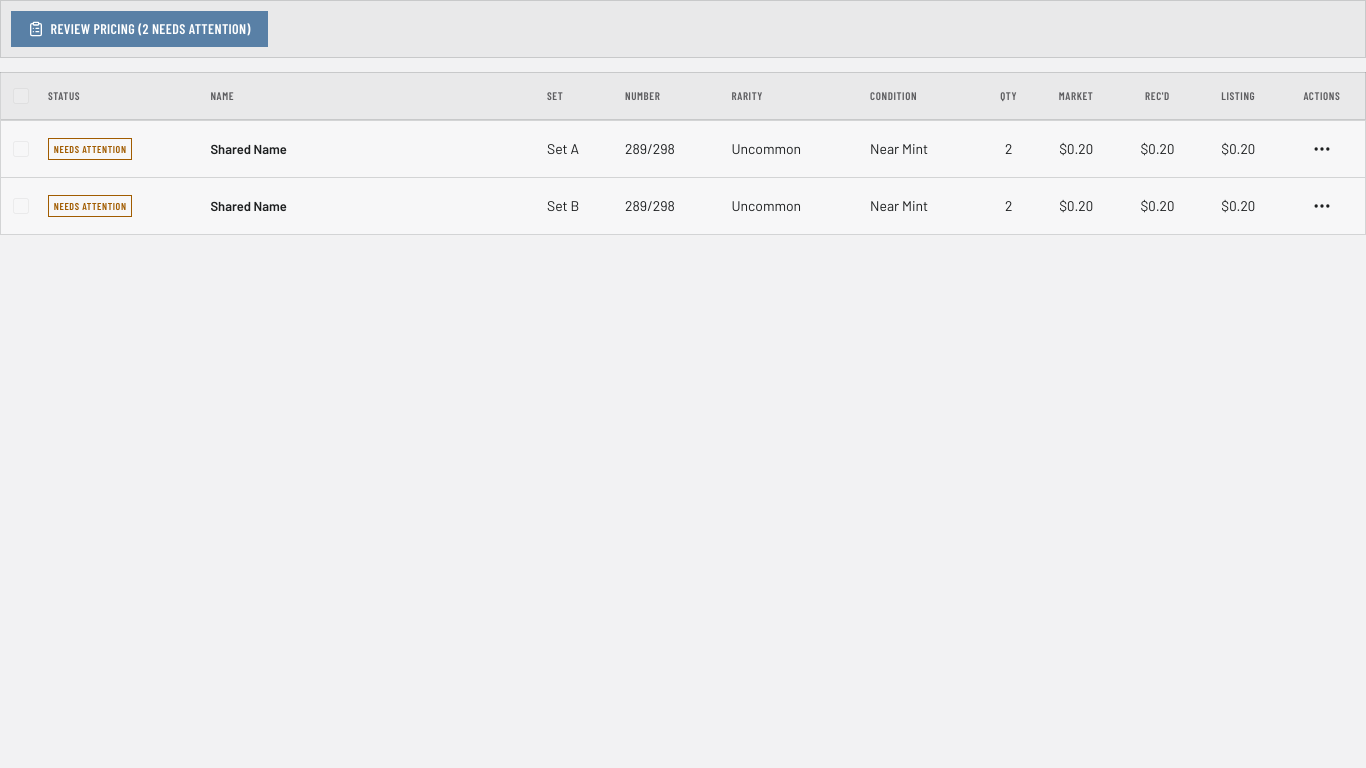
it: CardTable pricing review › keeps the same title in different Product IDs as separate review groups
Step 1. Click the button "Review Pricing (2 Needs Attention)" → (139, 29), box [11, 11, 268, 47]
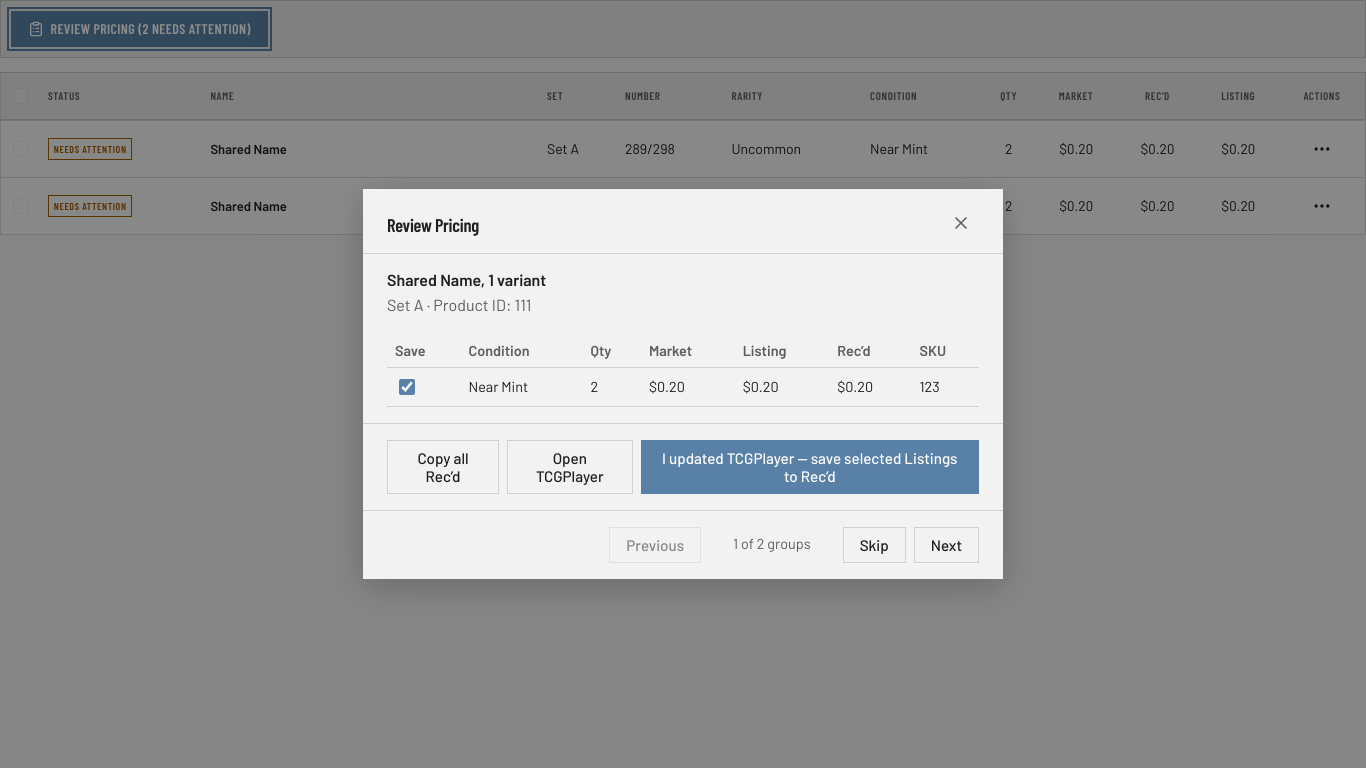
Expected: the text "1 of 2 groups" is shown, [733, 535, 811, 555]
